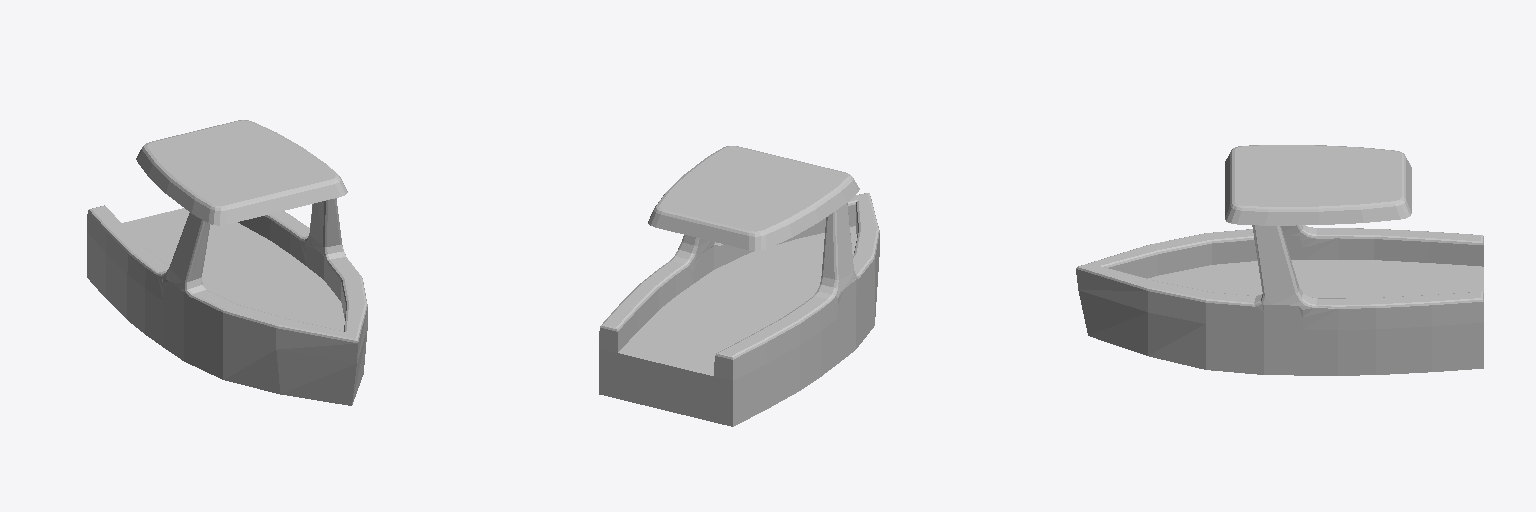
The model's file is BoatTeaxture.obj.
The picture shows the model from 3 angles: view 1: azimuth 30°, elevation 25°; view 2: azimuth 150°, elevation 25°; view 3: azimuth 270°, elevation 25°; orthographic projection.
Parts seen in each view (by area): view 1: BoatBottom BoatHull Boat, BoatHull Boat BoatTop; view 2: BoatBottom BoatHull Boat, BoatHull Boat BoatTop; view 3: BoatBottom BoatHull Boat, BoatHull Boat BoatTop.
Boxes of the visible parts, <box> form: BoatBottom BoatHull Boat: <box>87,198,367,405</box>; BoatHull Boat BoatTop: <box>136,120,347,225</box>; BoatBottom BoatHull Boat: <box>599,193,879,426</box>; BoatHull Boat BoatTop: <box>648,146,859,250</box>; BoatBottom BoatHull Boat: <box>1076,225,1483,375</box>; BoatHull Boat BoatTop: <box>1225,145,1411,225</box>.
Bounding box in the file's own units: 2.9 × 2.72 × 6.28.